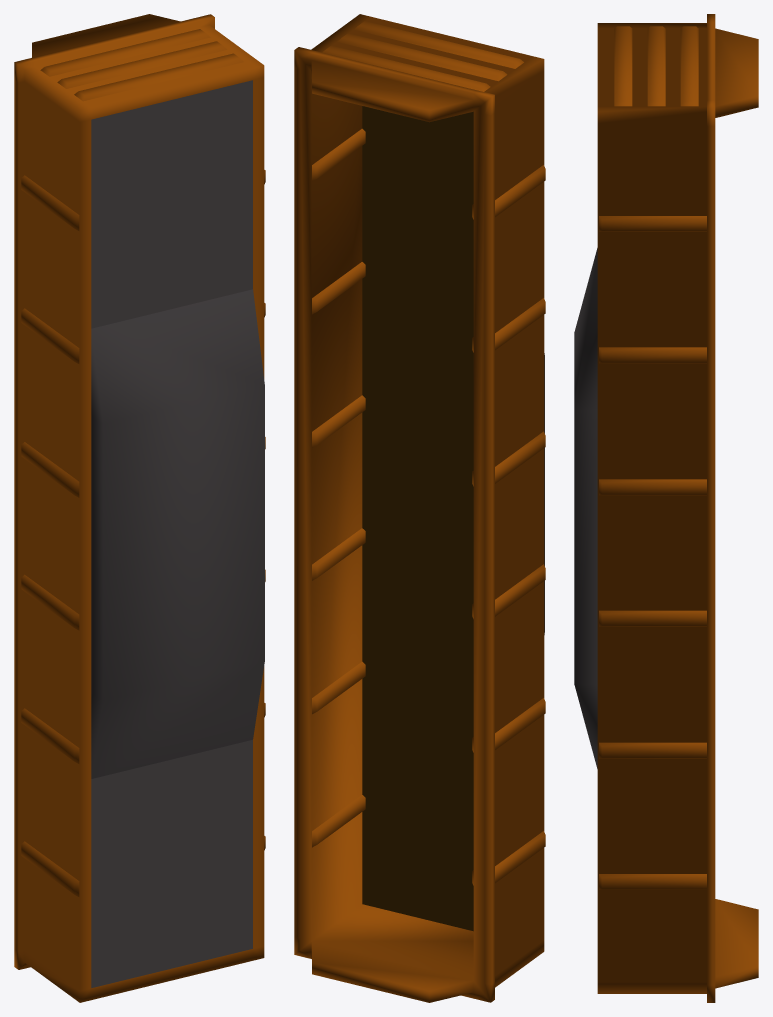
The model's file is CargoWagon02.fbx.
3 views of the same model, side by side, from view 1: azimuth 30°, elevation 25°; view 2: azimuth 150°, elevation 25°; view 3: azimuth 270°, elevation 25° (orthographic).
Visible parts, largest first — view 1: LP_13_4_CargoWagon_02; view 2: LP_13_4_CargoWagon_02; view 3: LP_13_4_CargoWagon_02.
Part boxes in pixels (x1,y1,x2,y2): LP_13_4_CargoWagon_02: (14, 14, 265, 1002); LP_13_4_CargoWagon_02: (294, 14, 545, 1002); LP_13_4_CargoWagon_02: (574, 14, 758, 1002).
Bounding box in the file's own units: 3.09 × 13.59 × 2.54.
